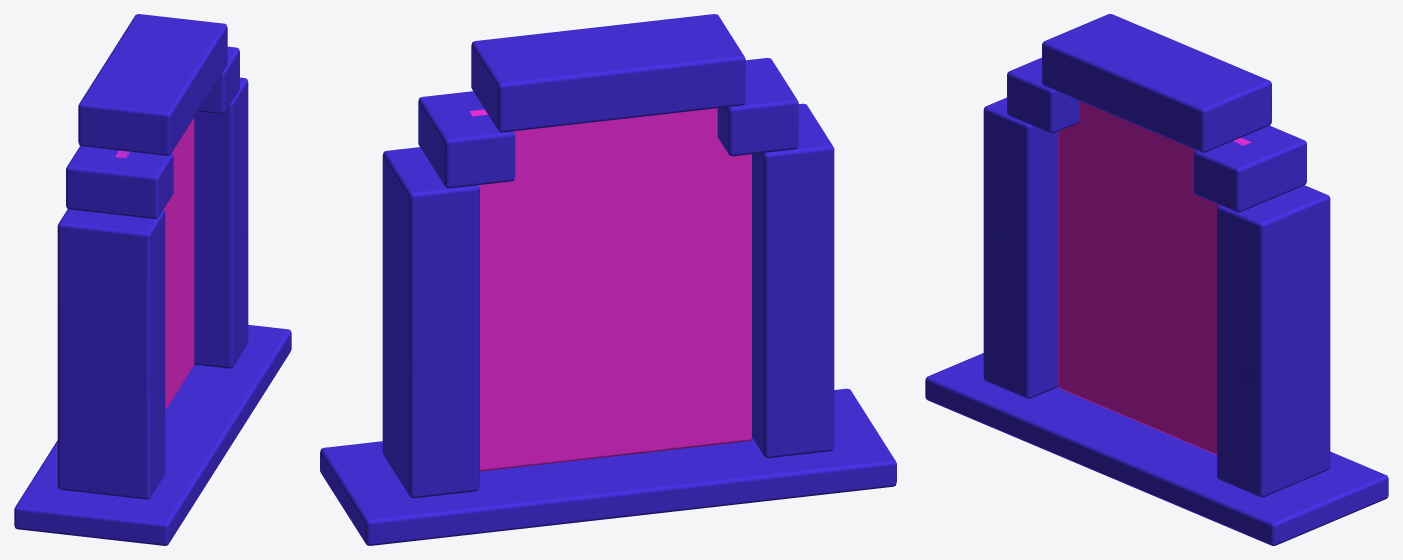
File: Portal.fbx
3 views of the same model, side by side, from view 1: azimuth 30°, elevation 25°; view 2: azimuth 150°, elevation 25°; view 3: azimuth 270°, elevation 25° (orthographic). The views are drawn at different scales.
Visible parts, largest first — view 1: PillarL, Base, ArchTop, PillarR, Core, StepL, StepR; view 2: Core, Base, PillarR, PillarL, ArchTop, StepR, StepL; view 3: Core, PillarR, Base, PillarL, ArchTop, StepR, StepL.
Part boxes in pixels (x1,y1,x2,y2): PillarL: [57, 209, 165, 499]; Base: [14, 325, 291, 545]; ArchTop: [78, 14, 227, 155]; PillarR: [194, 77, 248, 368]; Core: [115, 118, 194, 410]; StepL: [66, 146, 173, 218]; StepR: [198, 46, 239, 114]; Core: [469, 83, 751, 471]; Base: [320, 388, 896, 545]; PillarR: [382, 147, 479, 498]; PillarL: [752, 103, 834, 458]; ArchTop: [471, 14, 745, 132]; StepR: [418, 91, 515, 188]; StepL: [717, 58, 798, 156]; Core: [1058, 101, 1251, 454]; PillarR: [1217, 185, 1330, 497]; Base: [925, 353, 1388, 545]; PillarL: [983, 97, 1058, 398]; ArchTop: [1042, 14, 1271, 152]; StepR: [1193, 125, 1306, 212]; StepL: [1007, 57, 1079, 133].
Bounding box in the file's own units: 14.04 × 13 × 14.04.
